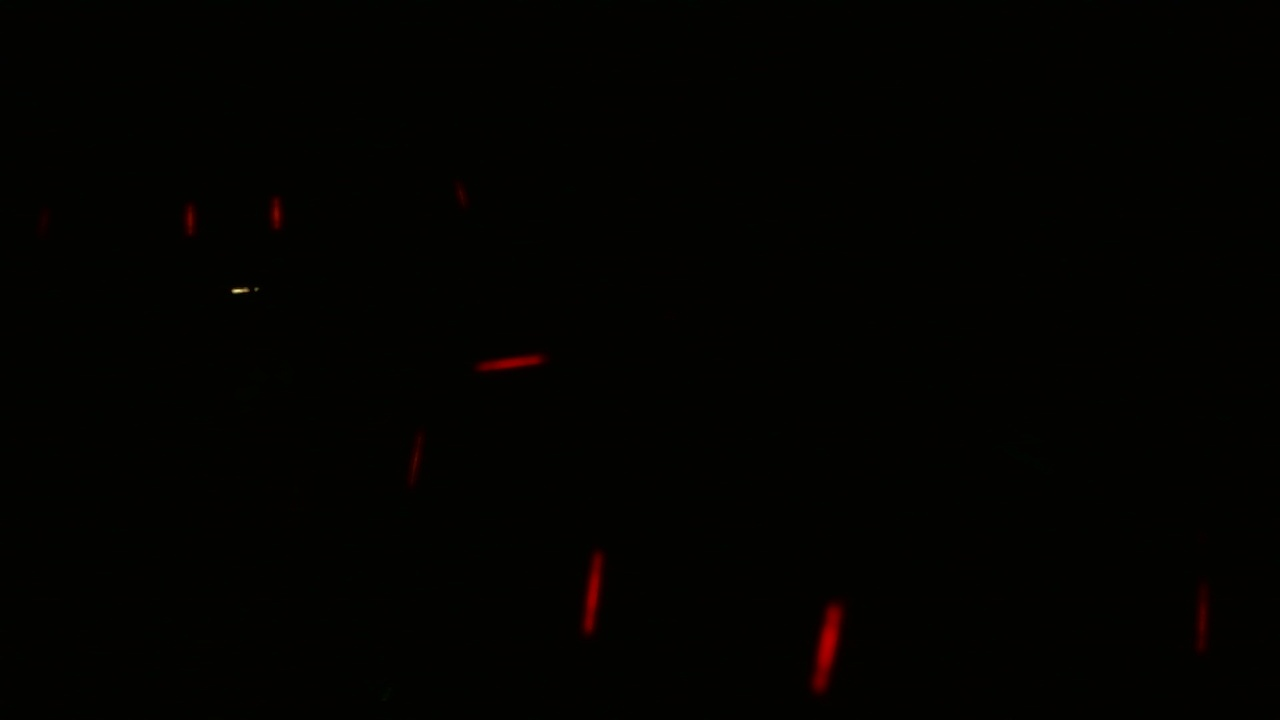pair1: (584, 542, 843, 686), (179, 190, 285, 245)
